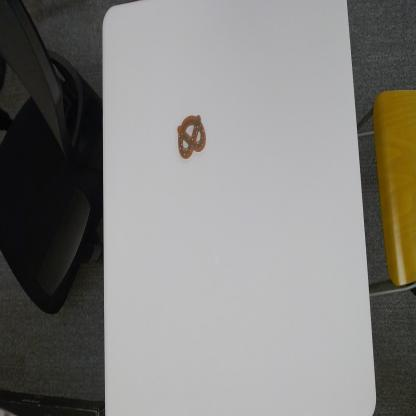Pretzel: (174, 110, 208, 159)
